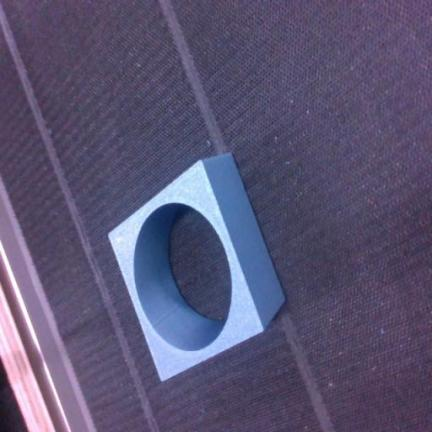hole: (109, 154, 284, 381)
